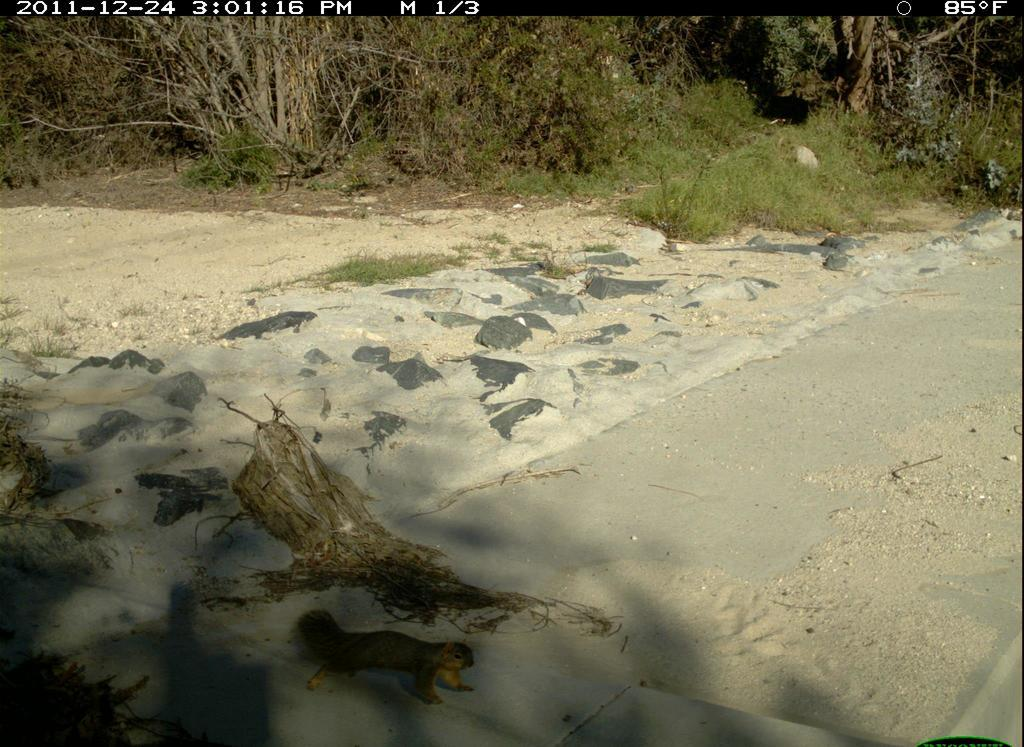squirrel: (287, 603, 496, 715)
